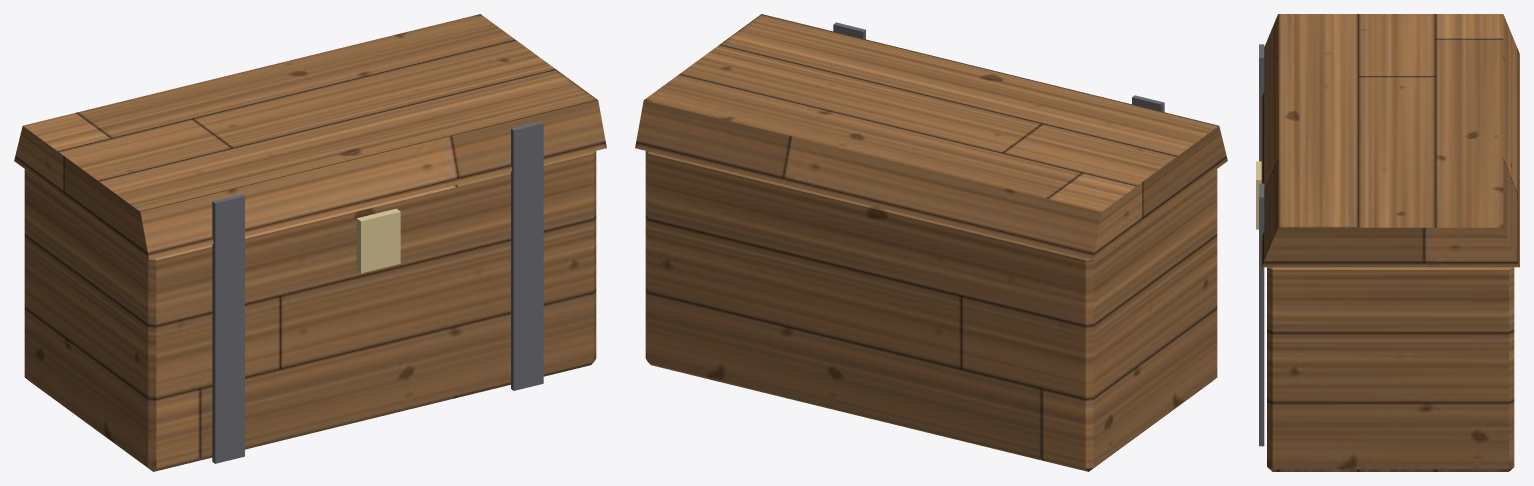
The model's file is chest.glb.
3 renders of one model, left to right at view 1: azimuth 30°, elevation 25°; view 2: azimuth 150°, elevation 25°; view 3: azimuth 270°, elevation 25°, orthographic. The views are drawn at different scales.
Visible parts, largest first — view 1: chest_wood, chest_iron, chest_brass; view 2: chest_wood, chest_iron; view 3: chest_wood, chest_iron.
Part boxes in pixels (x1,y1,x2,y2): chest_wood: (14, 14, 606, 471); chest_iron: (212, 121, 543, 463); chest_brass: (356, 208, 400, 273); chest_wood: (635, 14, 1227, 471); chest_iron: (833, 22, 1164, 112); chest_wood: (1261, 14, 1519, 471); chest_iron: (1259, 44, 1264, 446).
Bounding box in the file's own units: 0.92 × 0.5 × 0.48.
Materials: 3 (1 with a texture image).
